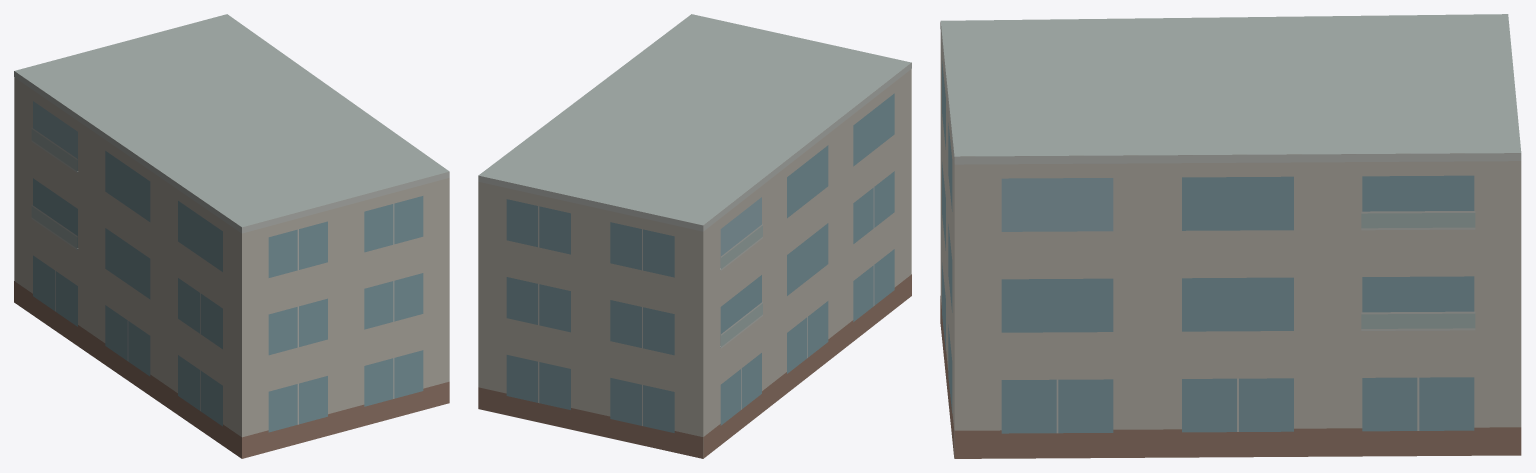
The model's file is survey-upis-32762323.glb.
3 views of the same model, side by side, from view 1: azimuth 30°, elevation 25°; view 2: azimuth 150°, elevation 25°; view 3: azimuth 270°, elevation 25° (orthographic). The views are drawn at different scales.
Parts seen in each view (by area): view 1: survey-upis-32762323.tmp; view 2: survey-upis-32762323.tmp; view 3: survey-upis-32762323.tmp.
Boxes of the visible parts, <box> form: survey-upis-32762323.tmp: <box>14,14,449,458</box>; survey-upis-32762323.tmp: <box>478,14,911,458</box>; survey-upis-32762323.tmp: <box>940,14,1521,458</box>.
Size of the model in its own units: 9.26 by 9.15 by 15.94.
